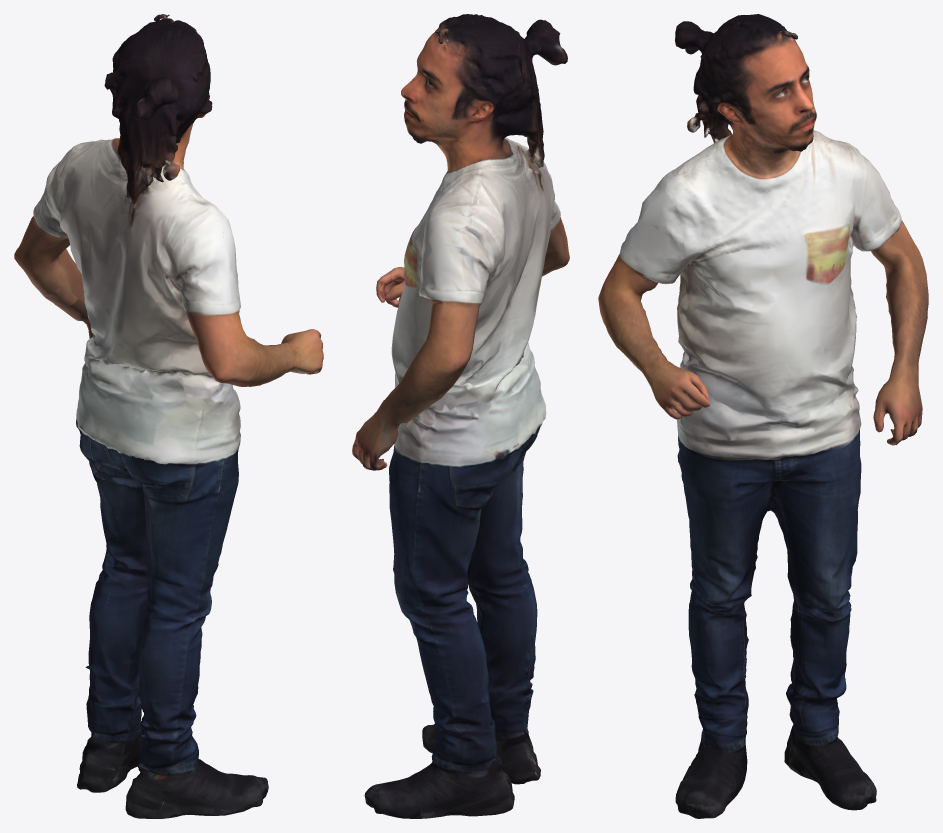
The picture shows the model from 3 angles, left to right: view 1: azimuth 30°, elevation 25°; view 2: azimuth 150°, elevation 25°; view 3: azimuth 270°, elevation 25°; orthographic projection.
Parts seen in each view (by area): view 1: 7a92173_00504; view 2: 7a92173_00504; view 3: 7a92173_00504.
Boxes of the visible parts, box(x1,y1,x2,y2) form: 7a92173_00504: box(14, 14, 323, 818); 7a92173_00504: box(352, 14, 569, 818); 7a92173_00504: box(598, 14, 928, 818).
Size of the model in its own units: 422 by 1562 by 613.
Materials: 1 (1 with a texture image).
